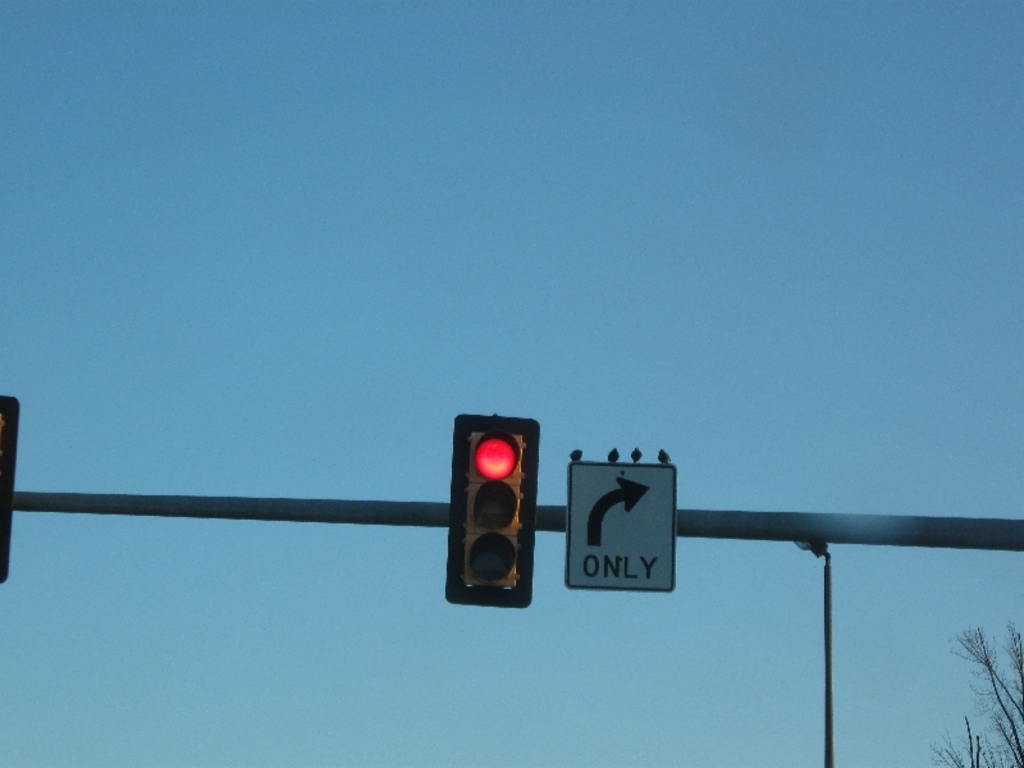red_light: (455, 418, 533, 606)
